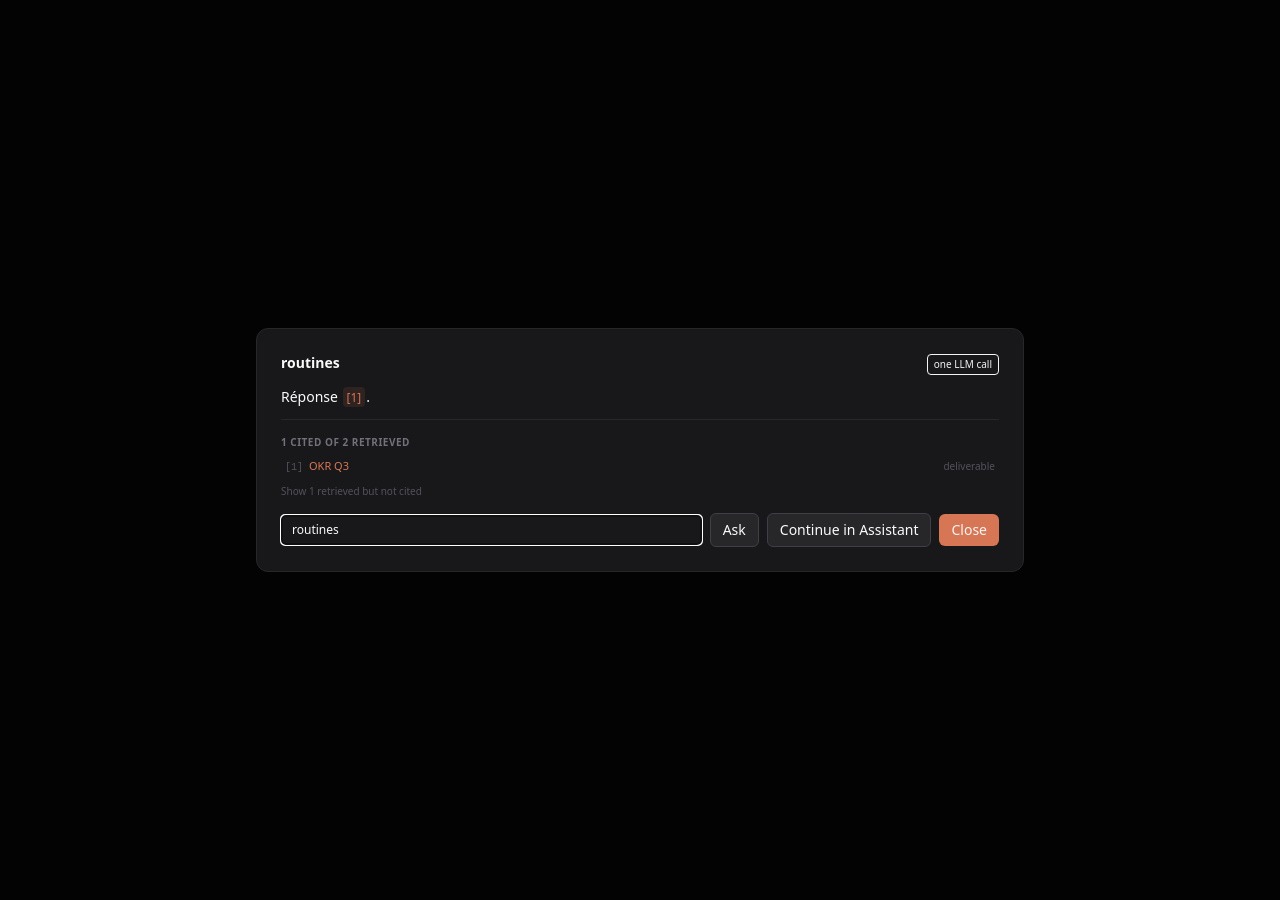
AskMemoryModal › keeps the uncited sources one click away
Check: the text "1 cited of 2 retrieved" is shown, box [281,435,410,449]
Check: the number of list items is 1, box [281,456,999,477]
Click the button "Show 1 retrieved but not cited" at (351,492), box [281,484,422,499]
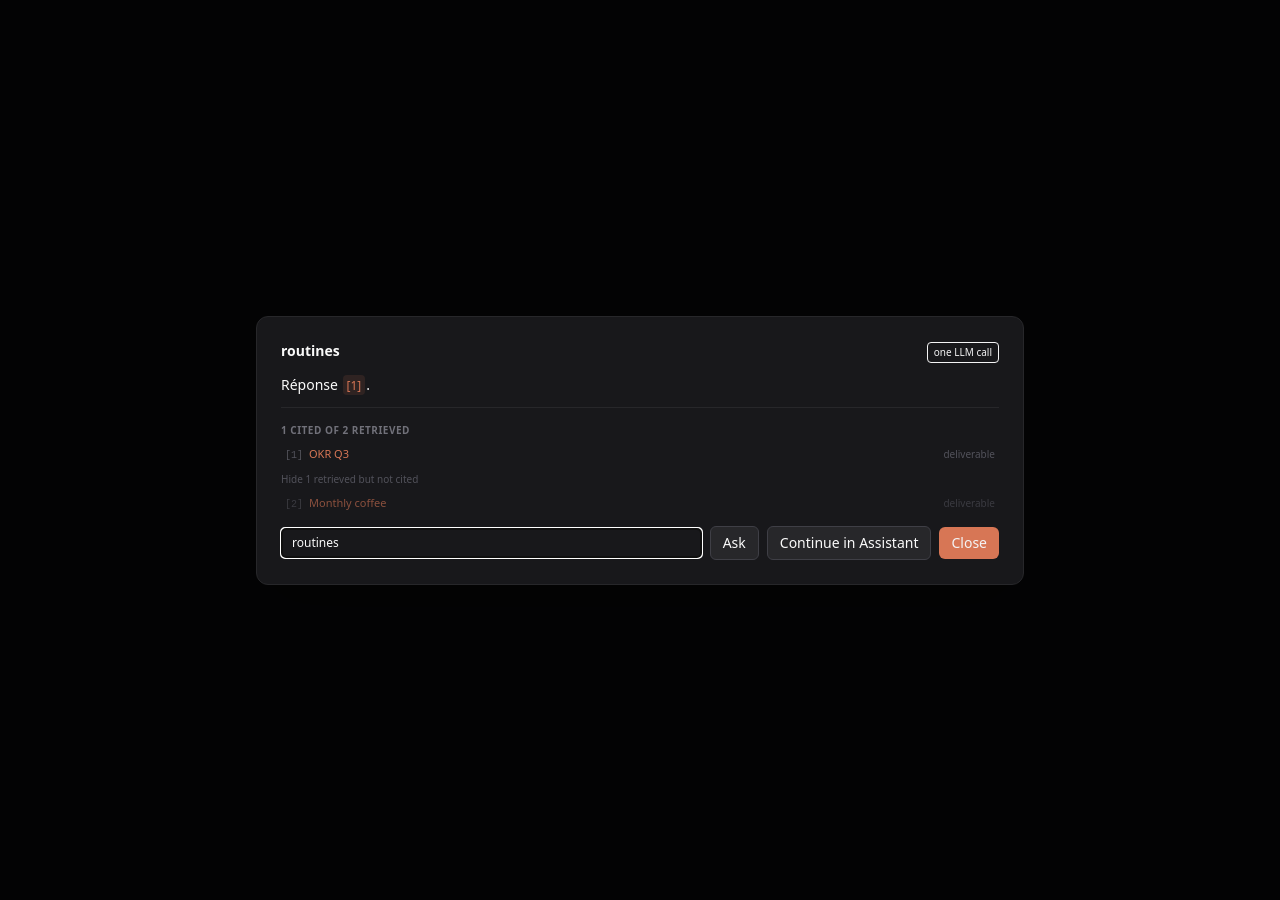
Check: the number of list items is 2, box [281,444,999,464]; [281,492,999,514]
Check: the button "Monthly coffee" is shown, box [309,494,937,511]
